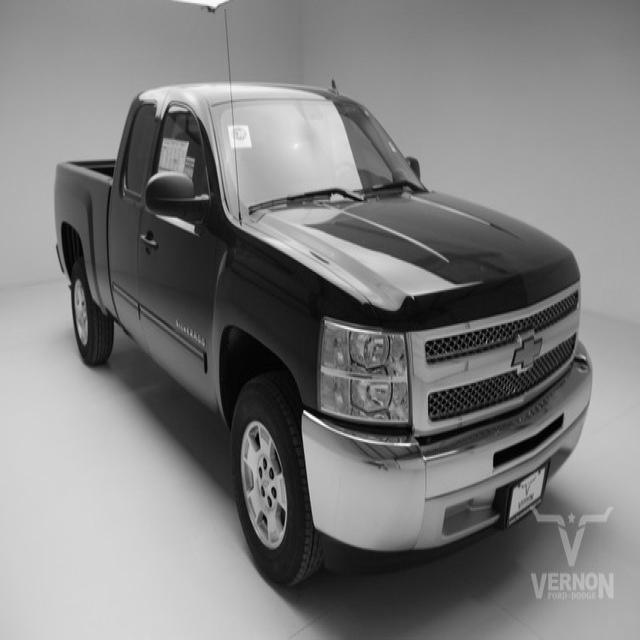car: (53, 77, 593, 589)
